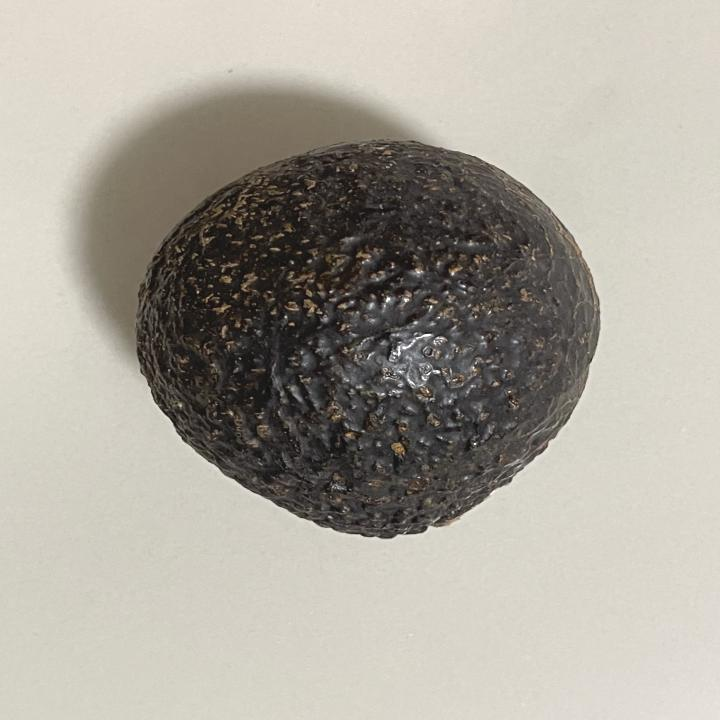Level2: (131, 135, 609, 547)
